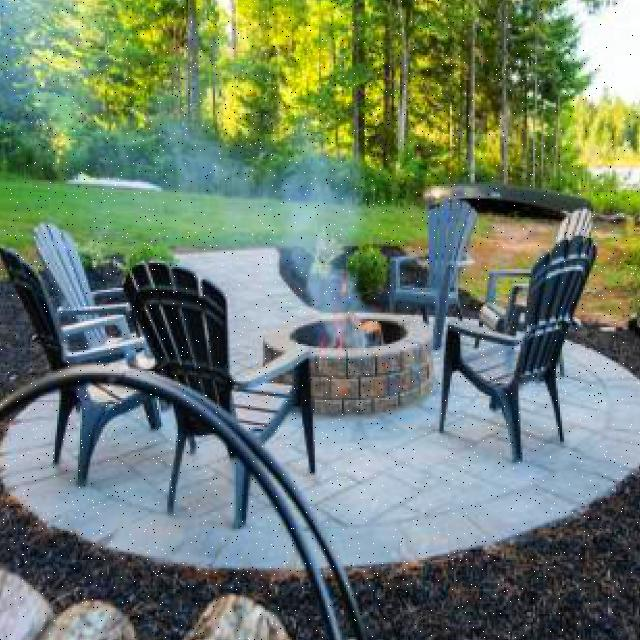fire: (361, 319, 384, 354)
smoke: (282, 143, 362, 340)
